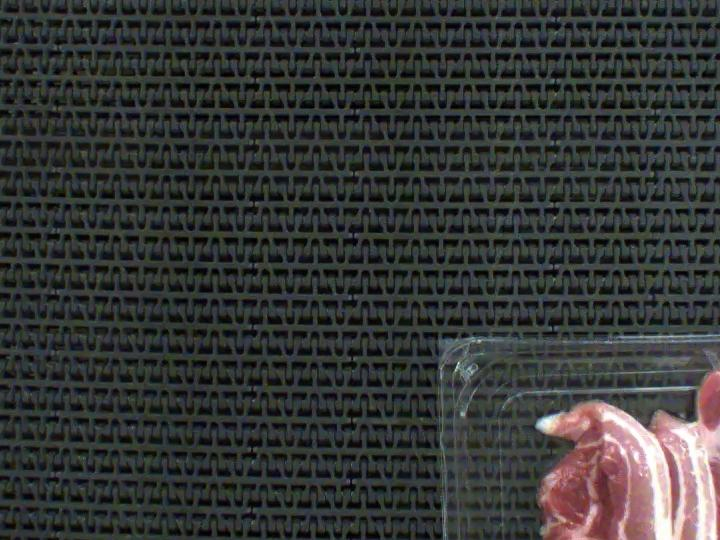packaging-error: (684, 315, 720, 400)
